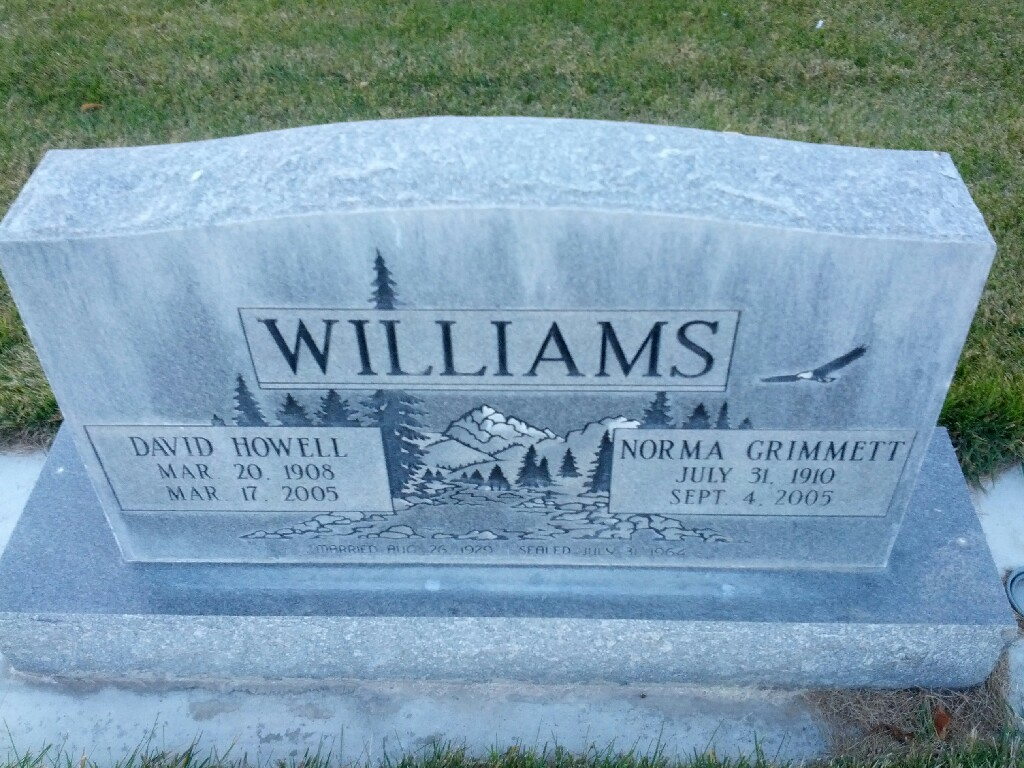upright: (6, 84, 1022, 758)
